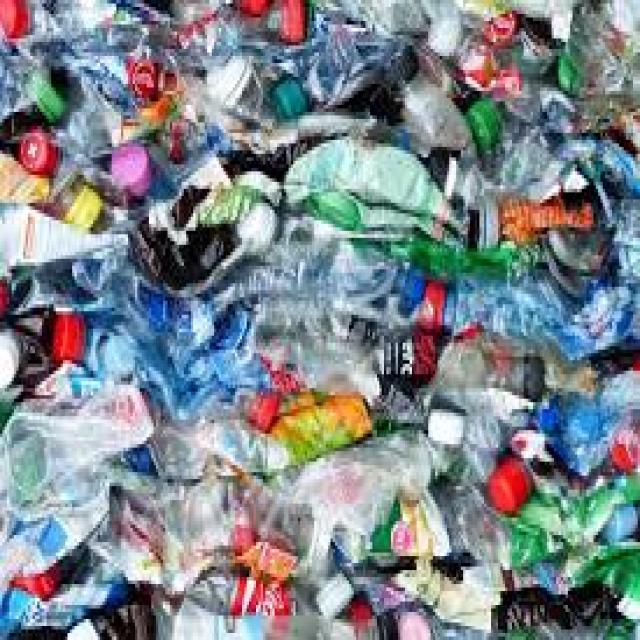heap: (13, 57, 629, 640)
